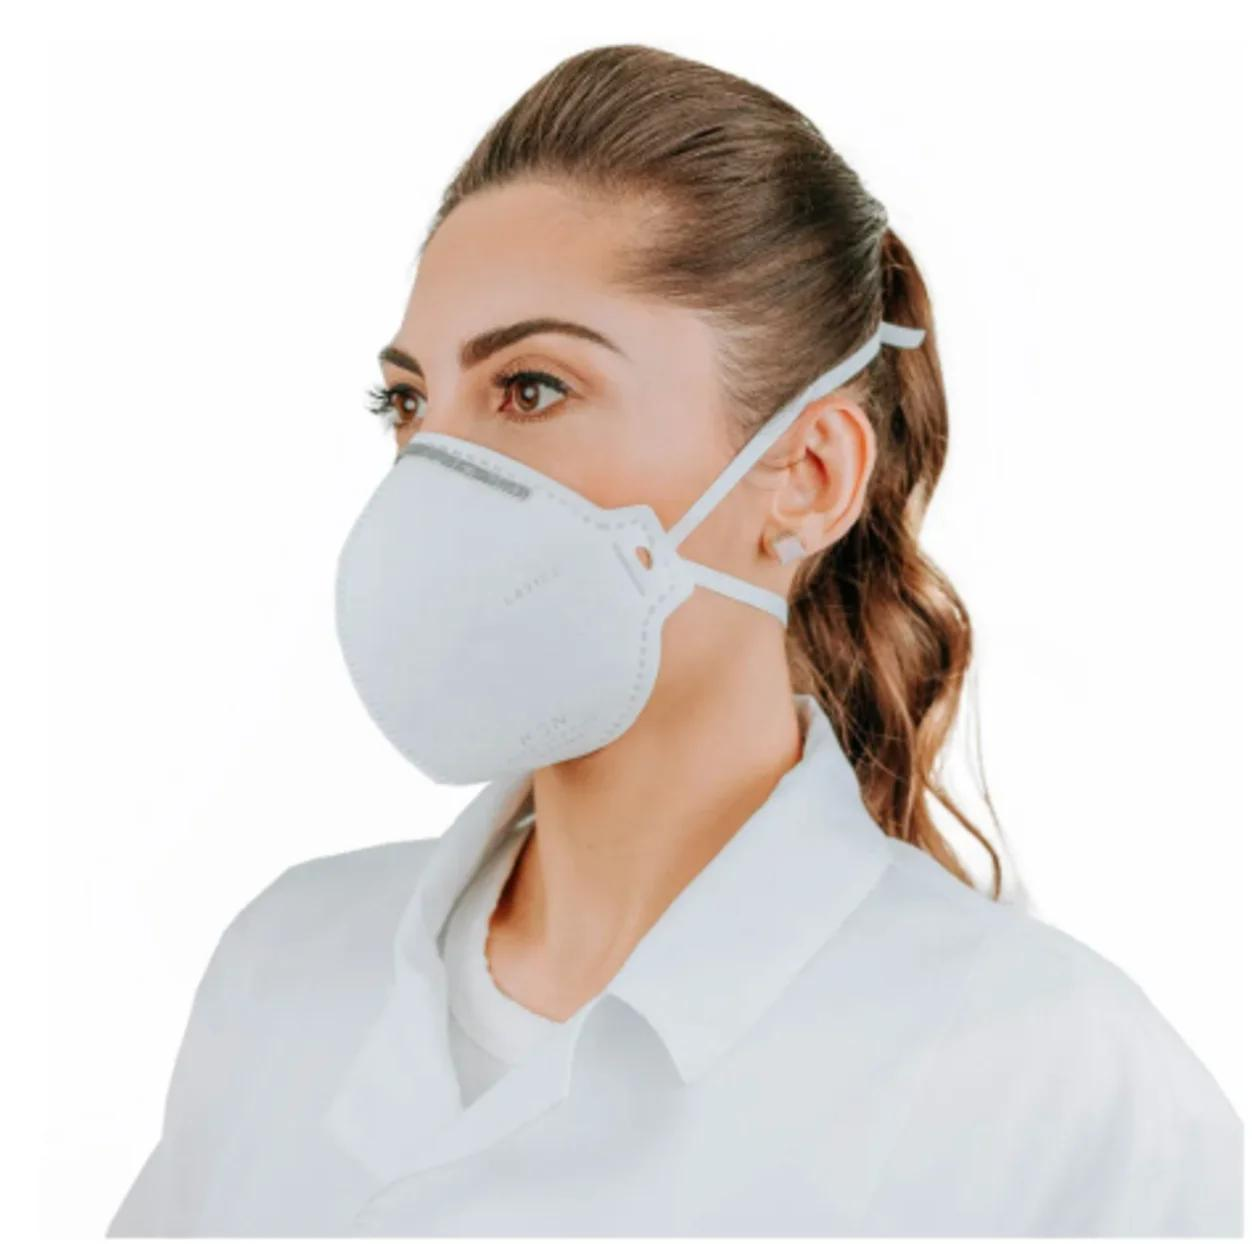face: (352, 185, 880, 764)
mascara: (332, 431, 795, 789)
